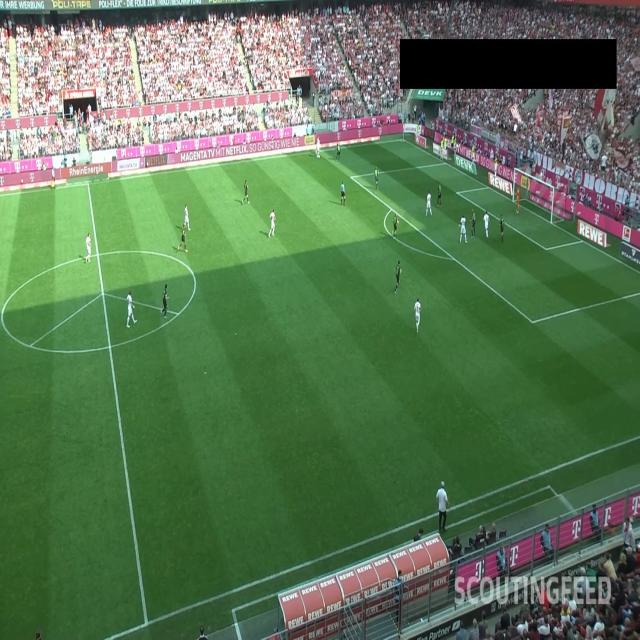ball: (318, 154, 320, 158)
